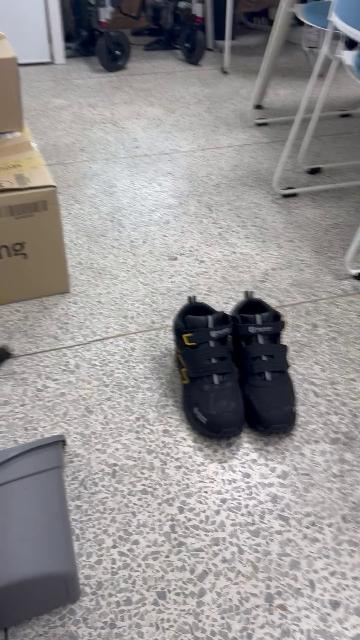shoe_worn: (168, 294, 248, 441), (224, 291, 299, 437)
